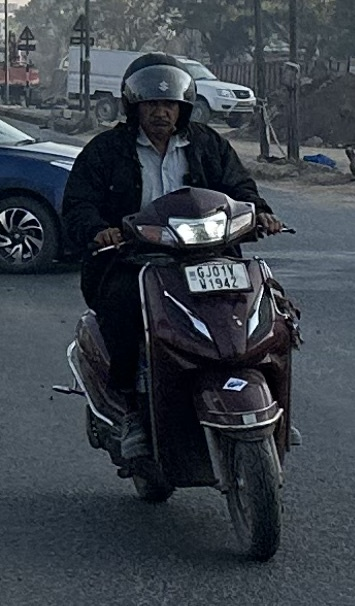BikeWithRider: (49, 45, 312, 569)
Helmet: (111, 47, 204, 145)
